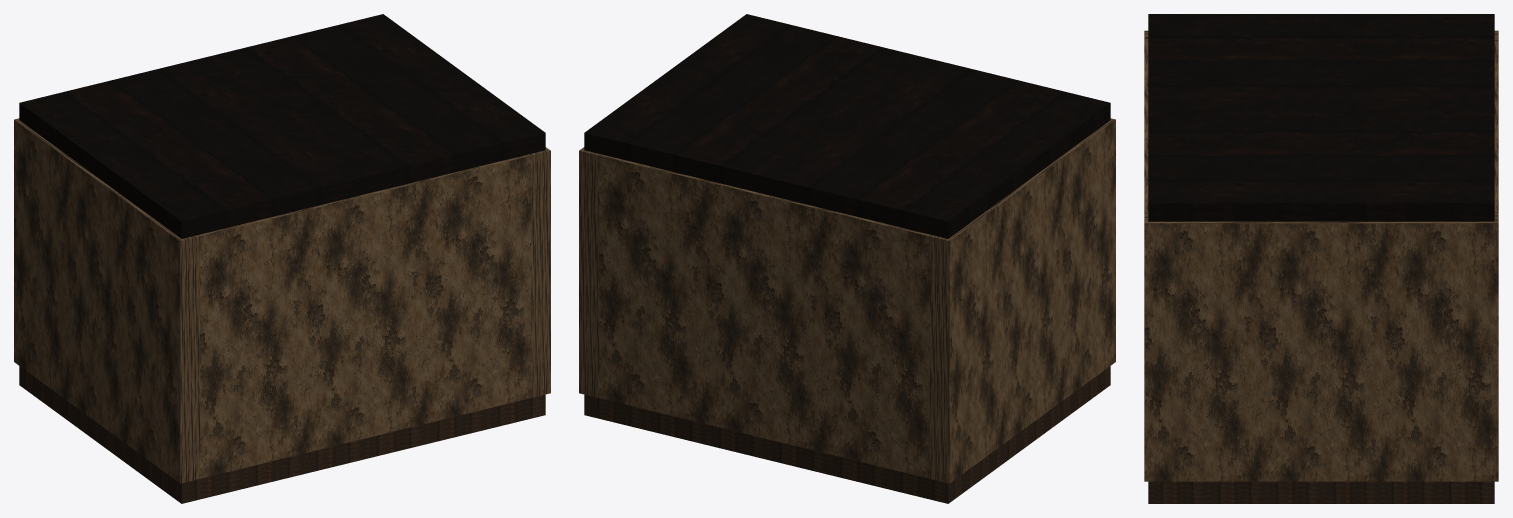
3 renders of one model, left to right at view 1: azimuth 30°, elevation 25°; view 2: azimuth 150°, elevation 25°; view 3: azimuth 270°, elevation 25°, orthographic. The views are drawn at different scales.
Parts seen in each view (by area): view 1: 封閉調查區_final14_B; view 2: 封閉調查區_final14_B; view 3: 封閉調查區_final14_B.
Part boxes in pixels (x1=…): 封閉調查區_final14_B: x1=14, y1=14, x2=550, y2=503; 封閉調查區_final14_B: x1=579, y1=14, x2=1115, y2=503; 封閉調查區_final14_B: x1=1144, y1=14, x2=1498, y2=503.
Size of the model in its own units: 4.48 by 3.26 by 3.48.
Materials: 18 (14 with a texture image).
